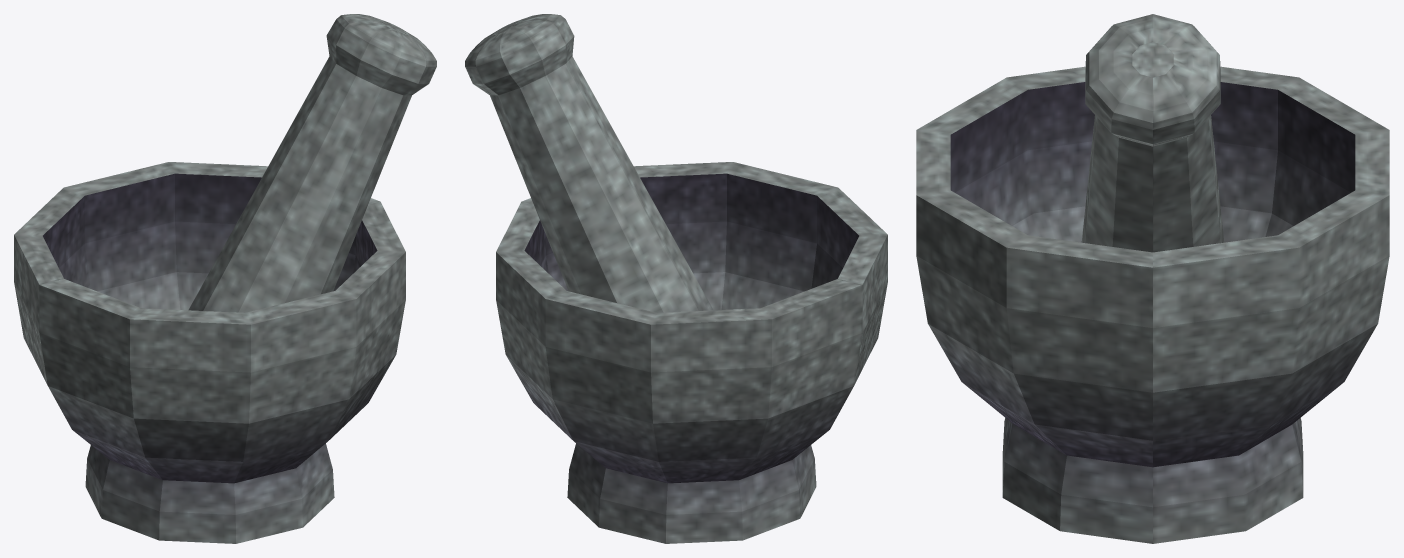
Rendered from MortarAndPestle_Obj.fbx.
3 renders of one model, left to right at view 1: azimuth 30°, elevation 25°; view 2: azimuth 150°, elevation 25°; view 3: azimuth 270°, elevation 25°, orthographic. The views are drawn at different scales.
Visible parts, largest first — view 1: MortarAndPestle_Obj; view 2: MortarAndPestle_Obj; view 3: MortarAndPestle_Obj.
Boxes of the visible parts, x1,y1,x2,y2 form: MortarAndPestle_Obj: [14, 14, 436, 543]; MortarAndPestle_Obj: [465, 14, 887, 543]; MortarAndPestle_Obj: [916, 14, 1389, 543].
Bounding box in the file's own units: 2.28 × 2.44 × 1.9.
